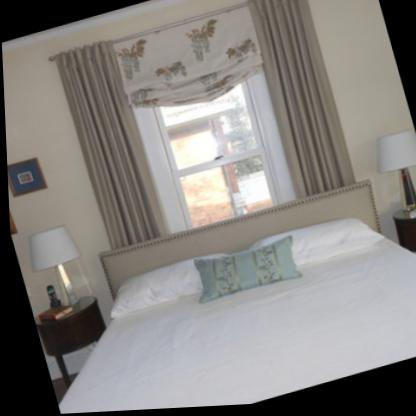Bed: (49, 168, 416, 414)
Curtains: (58, 42, 170, 255), (246, 0, 354, 202)
